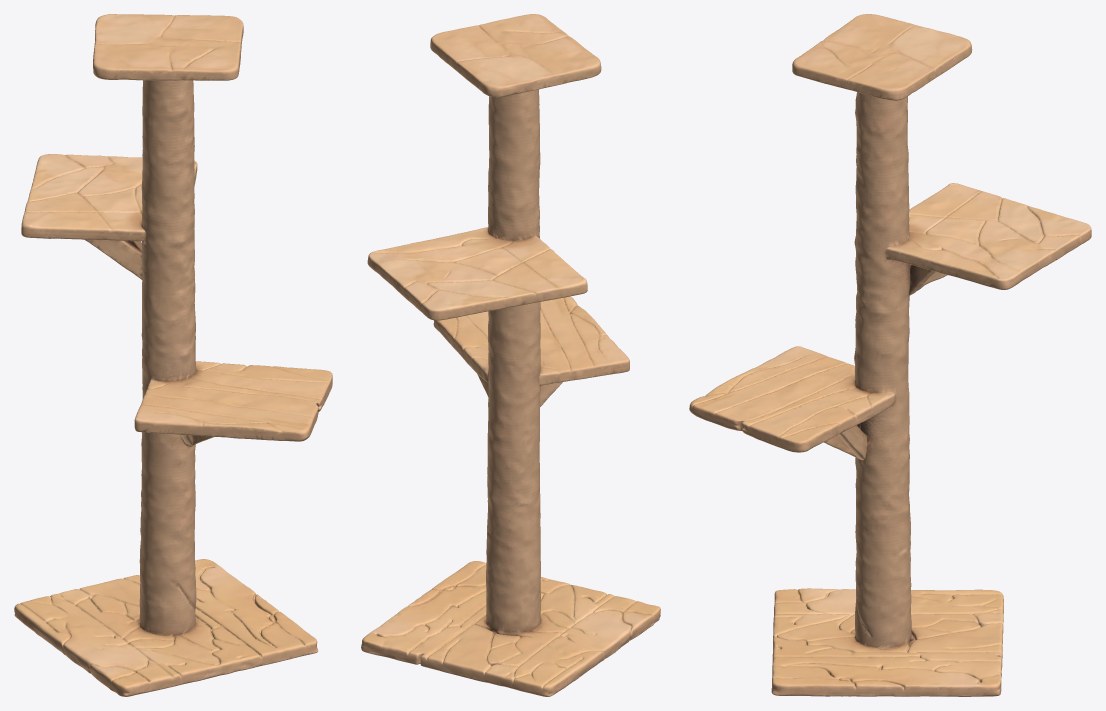
The model's file is torre-alta-vertical.glb.
3 renders of one model, left to right at view 1: azimuth 30°, elevation 25°; view 2: azimuth 150°, elevation 25°; view 3: azimuth 270°, elevation 25°, orthographic. The views are drawn at different scales.
Visible parts, largest first — view 1: tripo_node_c1f74ffd-f73f-4283-be3c-83cb5454b4b2; view 2: tripo_node_c1f74ffd-f73f-4283-be3c-83cb5454b4b2; view 3: tripo_node_c1f74ffd-f73f-4283-be3c-83cb5454b4b2.
Boxes of the visible parts, box(x1,y1,x2,y2) form: tripo_node_c1f74ffd-f73f-4283-be3c-83cb5454b4b2: box(14, 14, 332, 696); tripo_node_c1f74ffd-f73f-4283-be3c-83cb5454b4b2: box(361, 14, 660, 696); tripo_node_c1f74ffd-f73f-4283-be3c-83cb5454b4b2: box(689, 14, 1091, 696).
Size of the model in its own units: 0.408 by 1 by 0.6104.
Materials: 1 (1 with a texture image).
